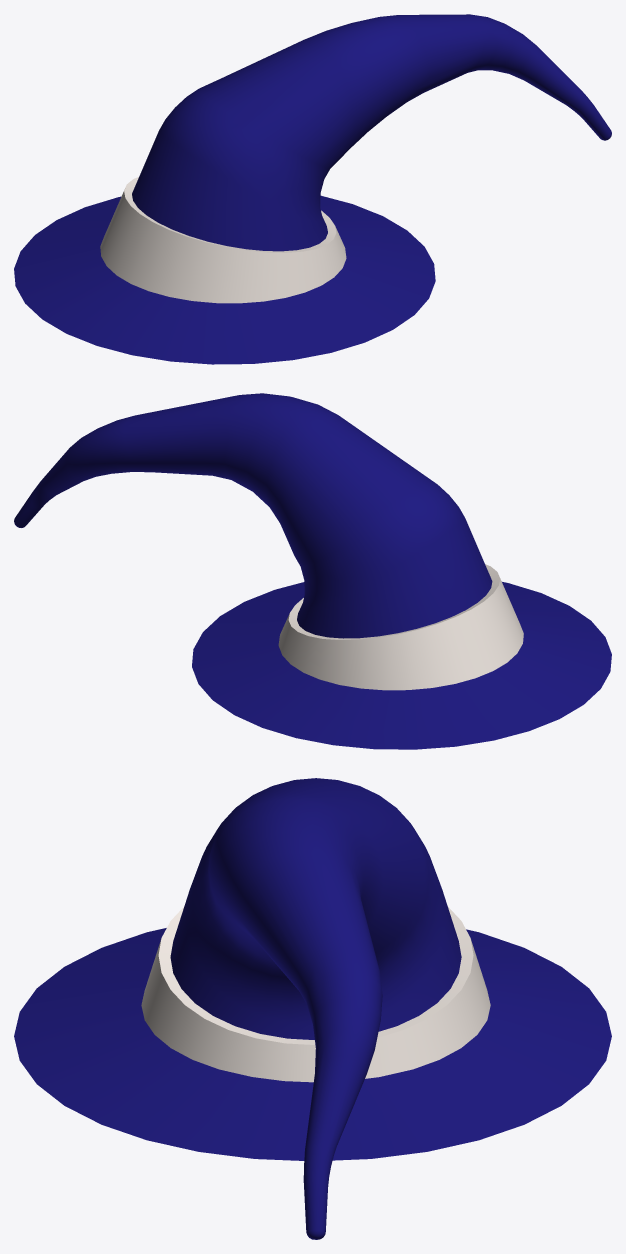
Rendered from WitchyHat2.fbx.
The picture shows the model from 3 angles, top to bottom: view 1: azimuth 30°, elevation 25°; view 2: azimuth 150°, elevation 25°; view 3: azimuth 270°, elevation 25°; orthographic projection. The views are drawn at different scales.
Visible parts, largest first — view 1: Circle; view 2: Circle; view 3: Circle.
Boxes of the visible parts, x1,y1,x2,y2 form: Circle: [14, 14, 611, 364]; Circle: [14, 393, 611, 749]; Circle: [14, 778, 611, 1239].
Bounding box in the file's own units: 410 × 153 × 265.
